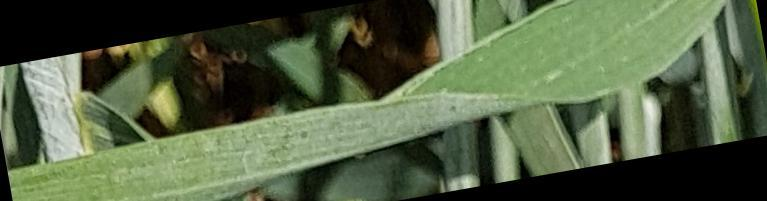Wheat: (521, 2, 691, 62), (36, 157, 214, 198), (225, 120, 336, 166)
